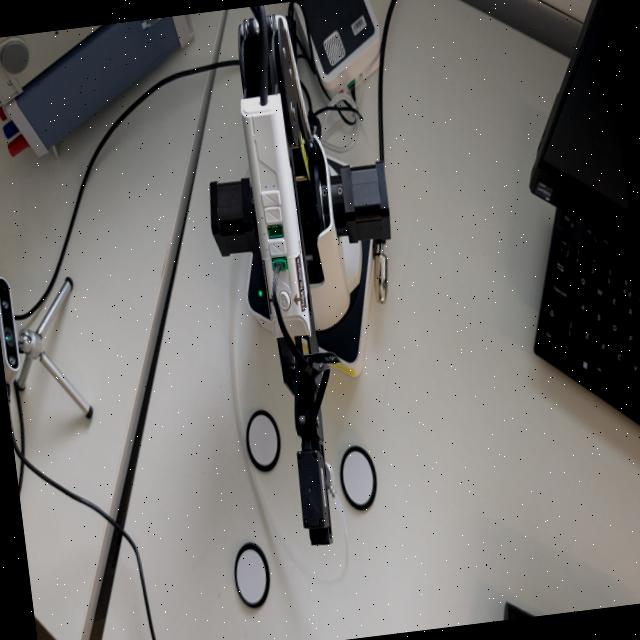Robot-end-effector-HF8z: (292, 440, 346, 550)
